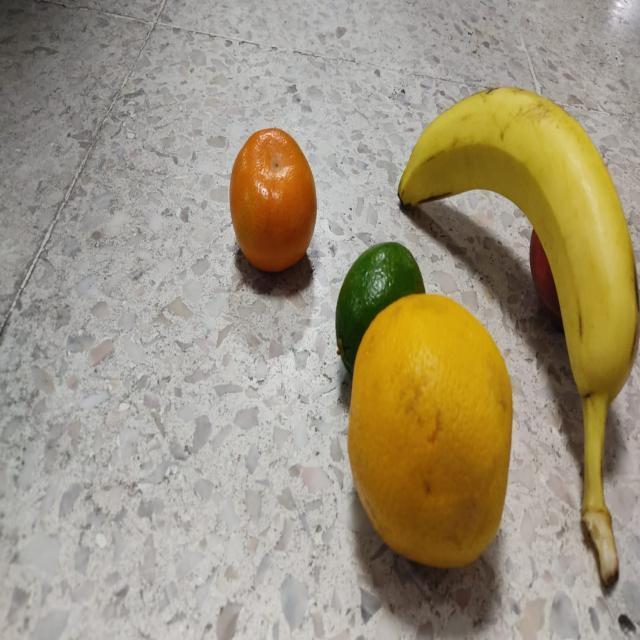Jeruk: (348, 291, 512, 567)
Jeruk Mandarin: (228, 124, 318, 276)
Lemon: (332, 238, 427, 386)
Persik: (530, 177, 618, 332)
Pisang: (400, 85, 638, 584)
